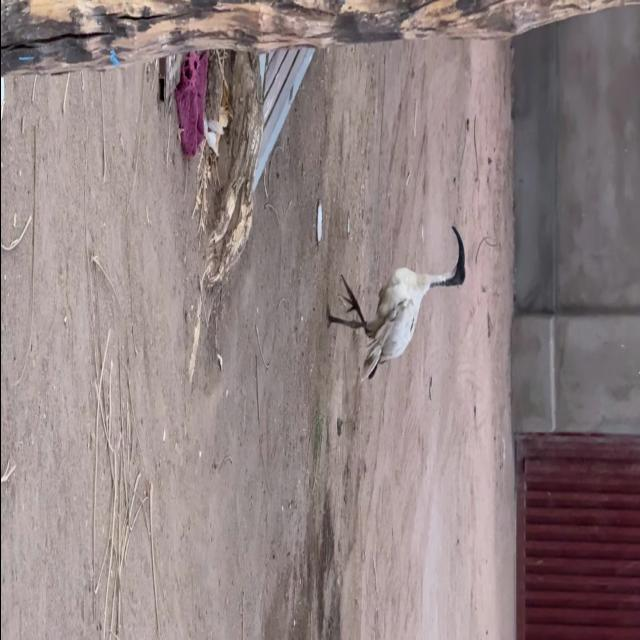Birds-Ibis: (322, 224, 468, 386)
